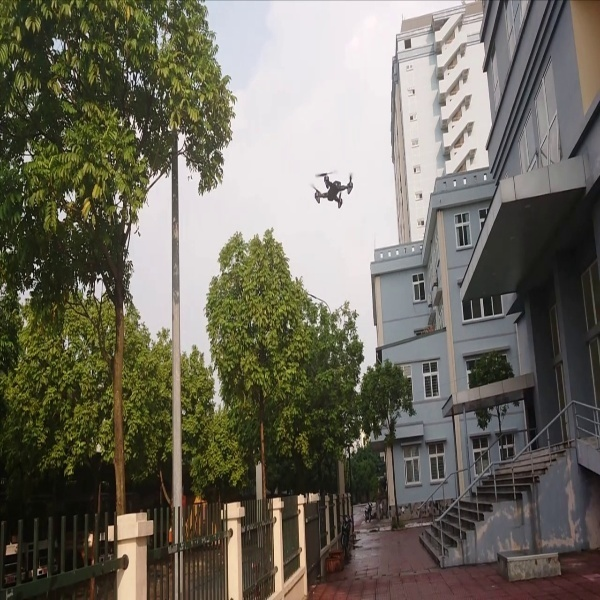drone: (308, 165, 364, 215)
